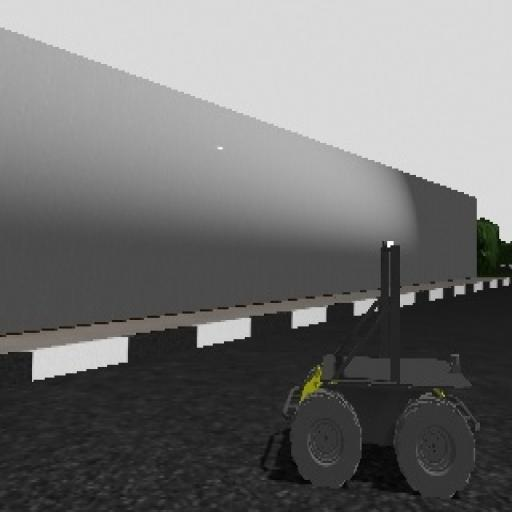huskya200: (261, 214, 484, 512)
